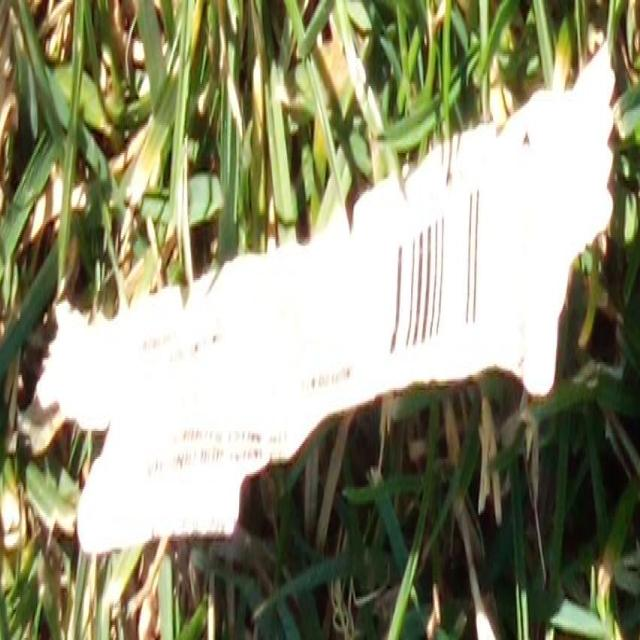litter: (24, 52, 616, 562)
